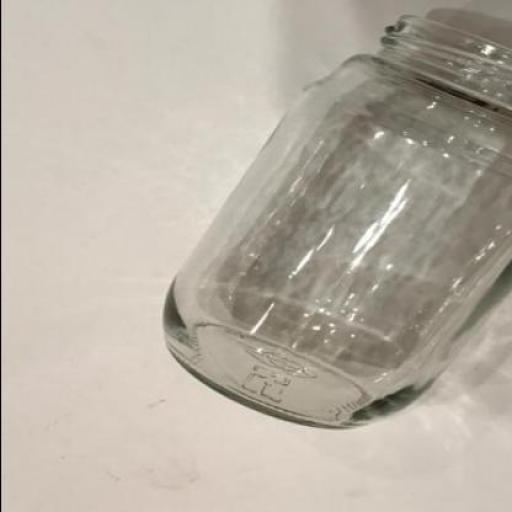glass: (160, 16, 511, 430)
